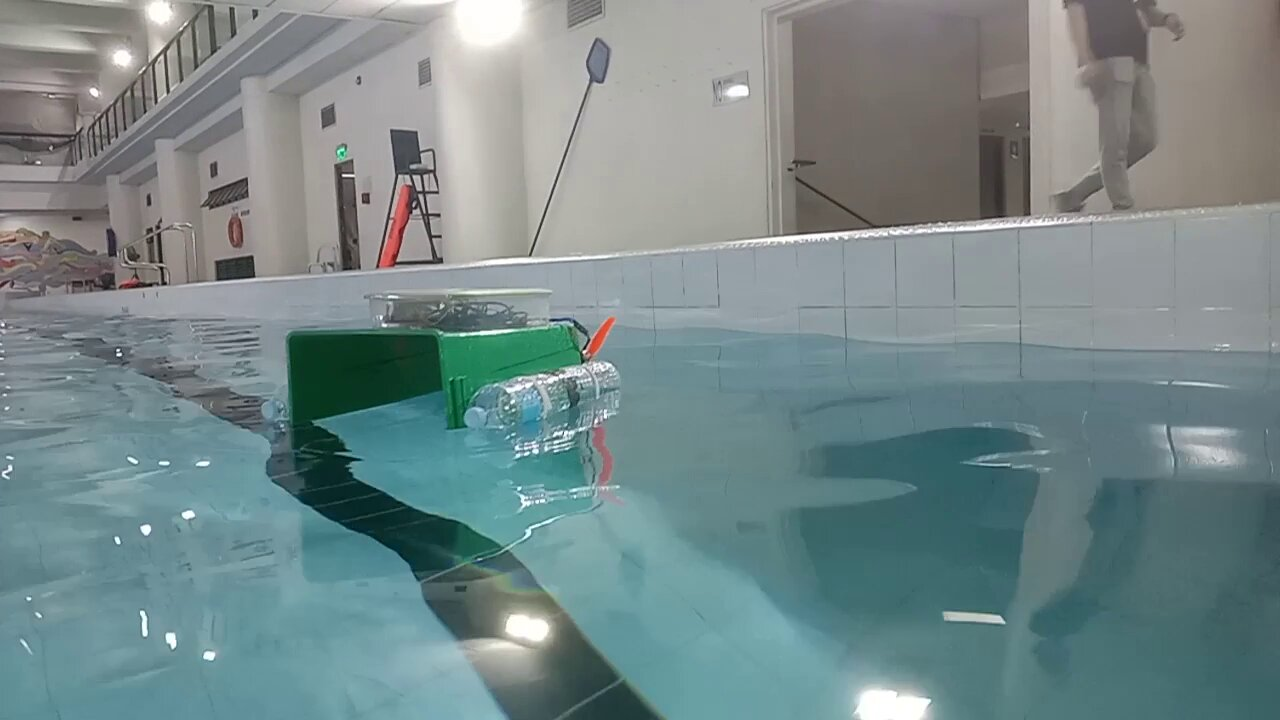drone: (258, 286, 624, 440)
